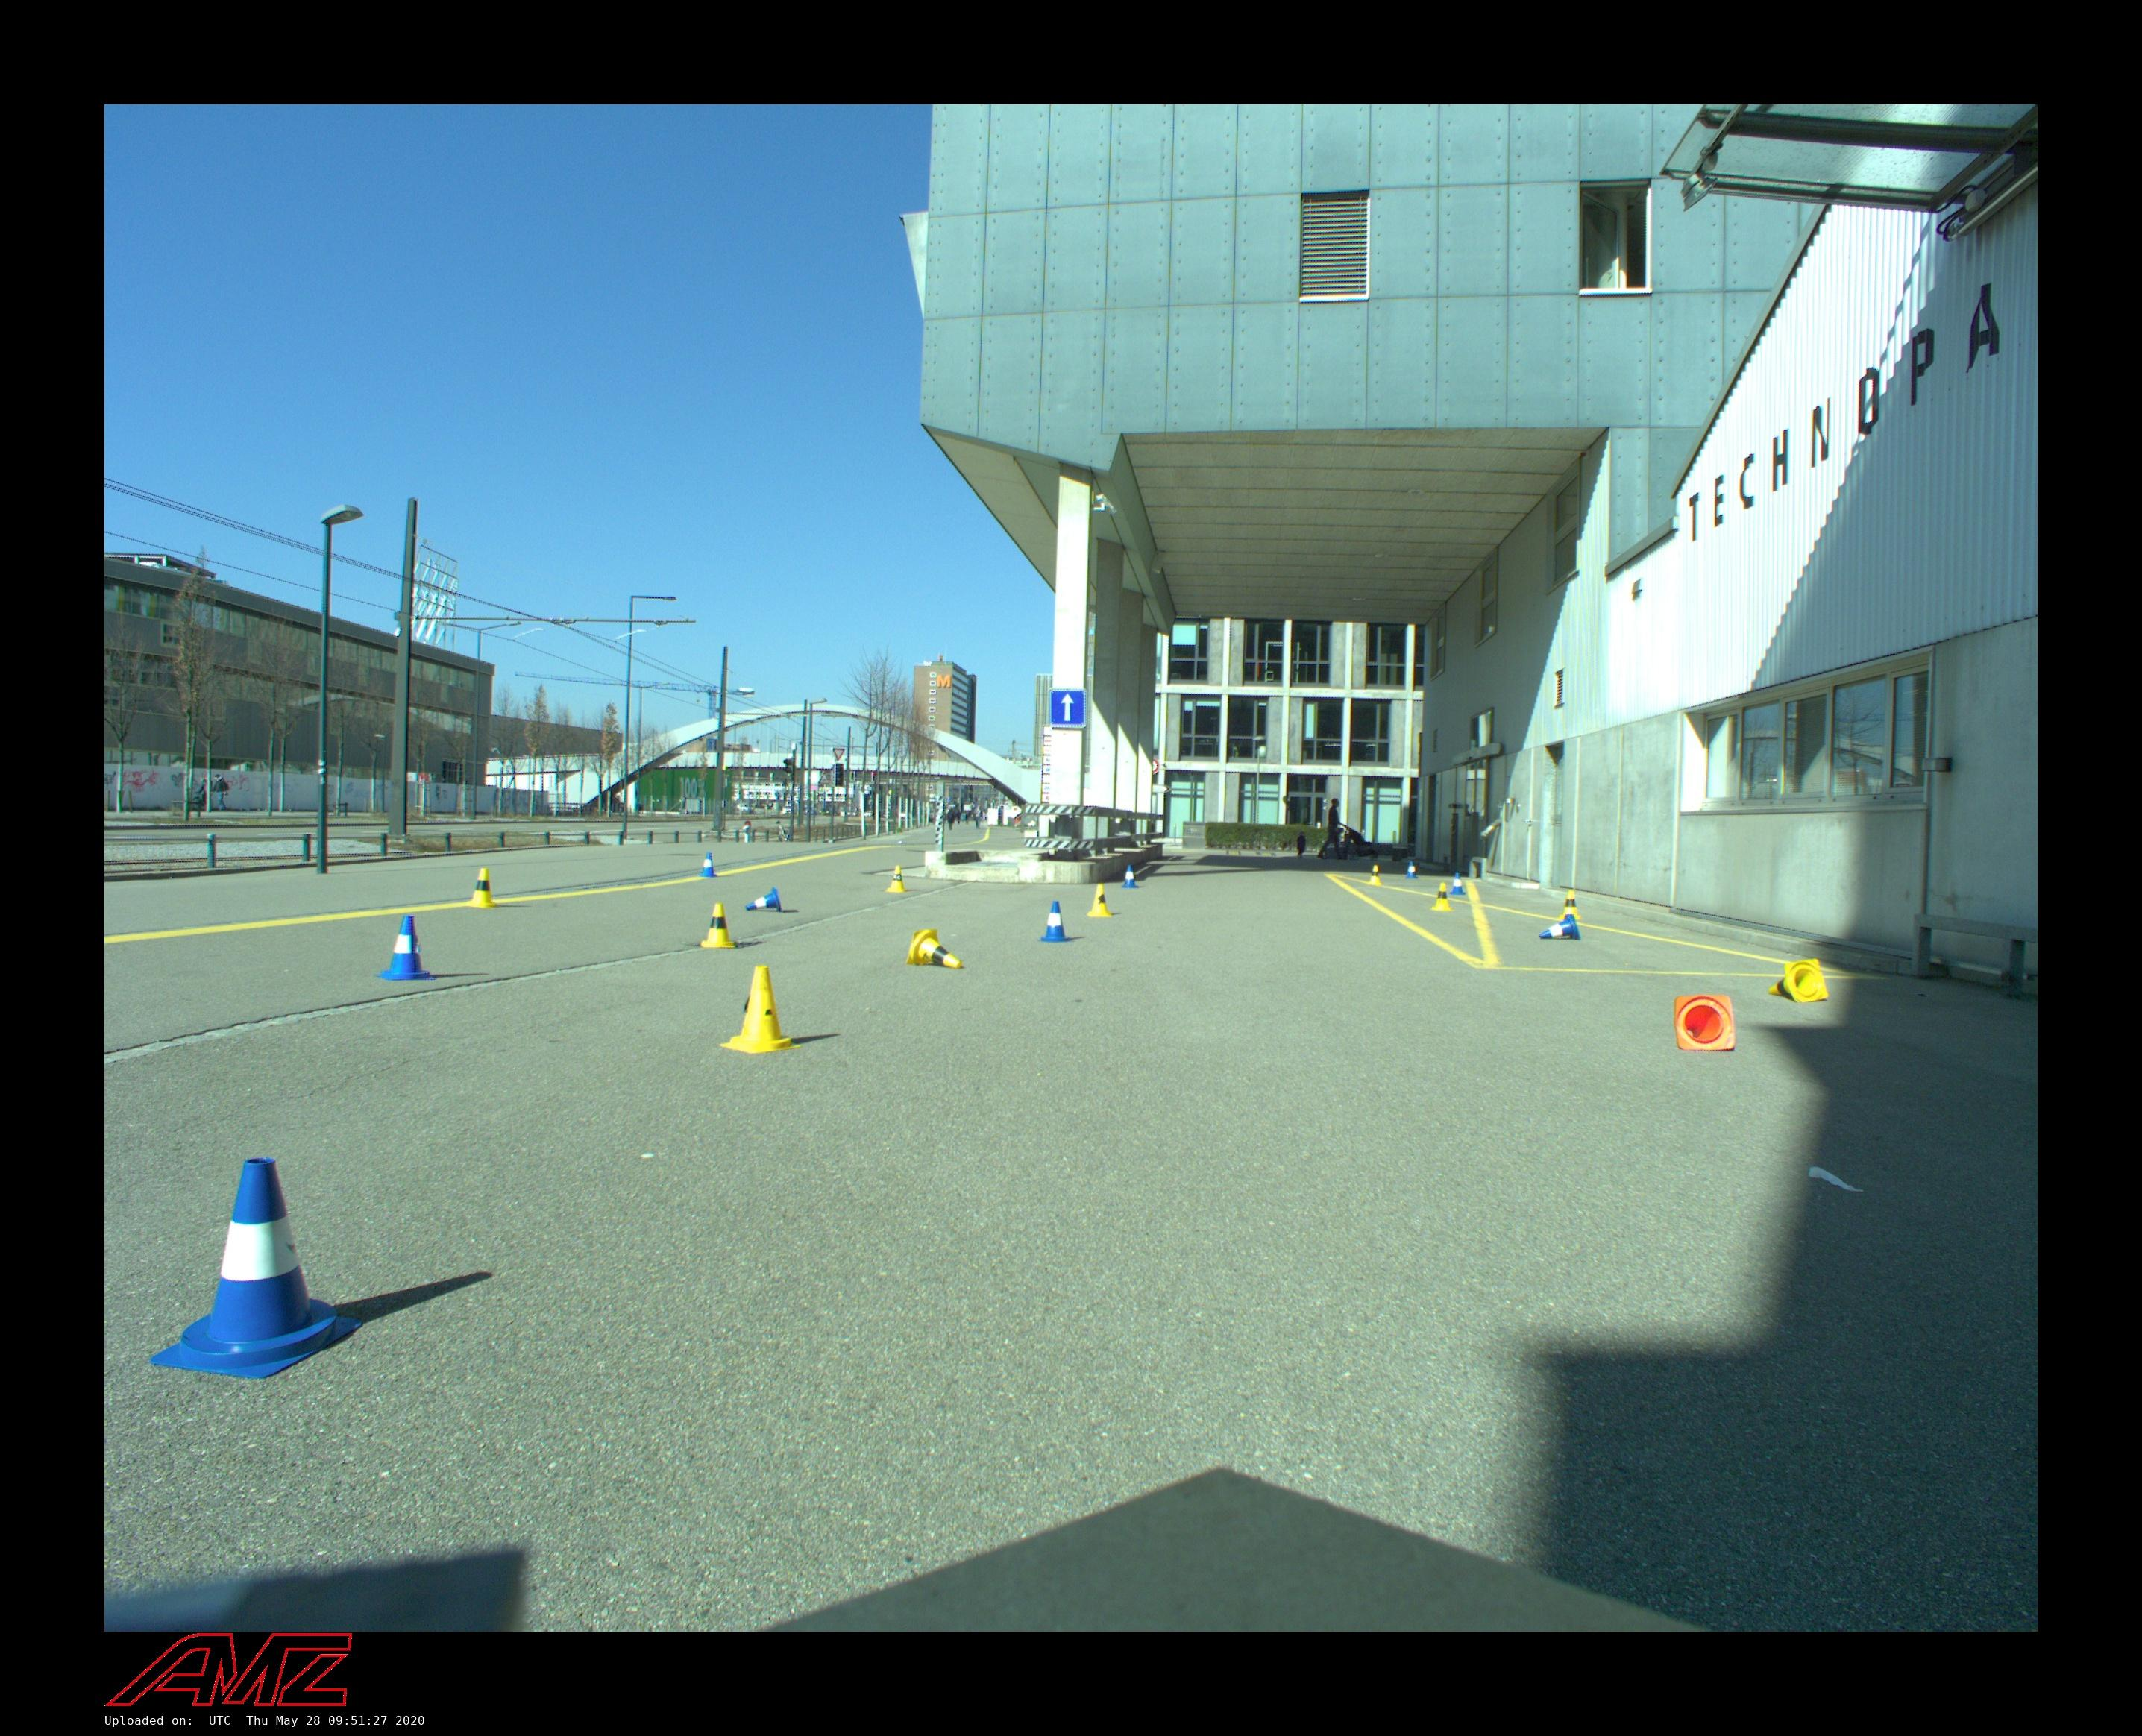blue_cone: (149, 1157, 363, 1378), (377, 916, 436, 981), (1038, 902, 1074, 942), (1538, 914, 1580, 941), (746, 887, 783, 912), (698, 852, 718, 877), (1121, 864, 1139, 887), (1449, 873, 1467, 896), (1405, 861, 1419, 879)
orange_cone: (1674, 994, 1736, 1052)
yellow_cone: (719, 965, 801, 1052), (1768, 958, 1828, 1003), (905, 930, 962, 969), (700, 903, 735, 948), (464, 868, 498, 909), (1088, 884, 1113, 918), (1430, 882, 1455, 911), (886, 864, 907, 893), (1559, 891, 1580, 919), (1368, 864, 1384, 886)
